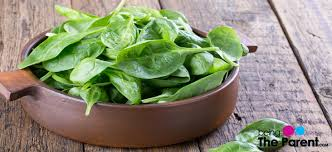spinach: (71, 23, 202, 91)
